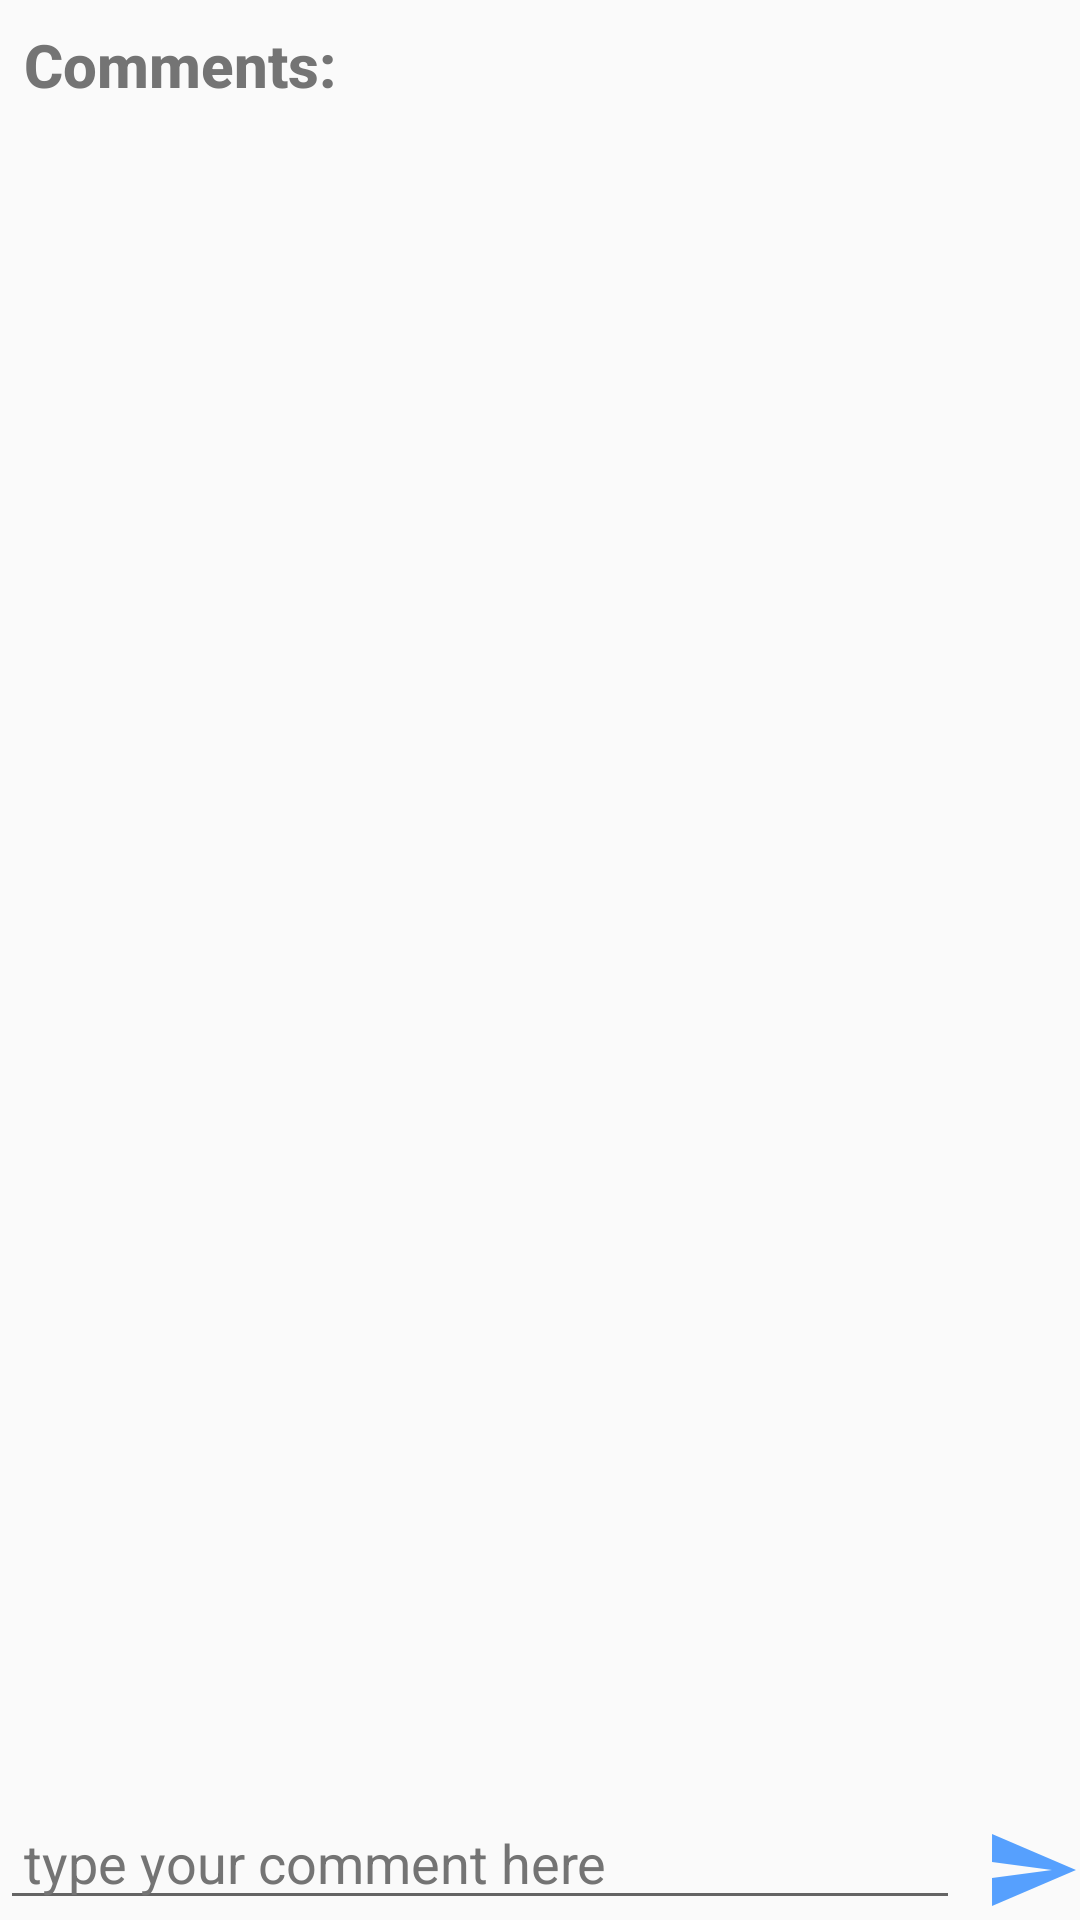

Where icons sit on this 1080 x 1920 app screen, as (x1, y1, x2, y2):
send: (992, 1834, 1076, 1906)
